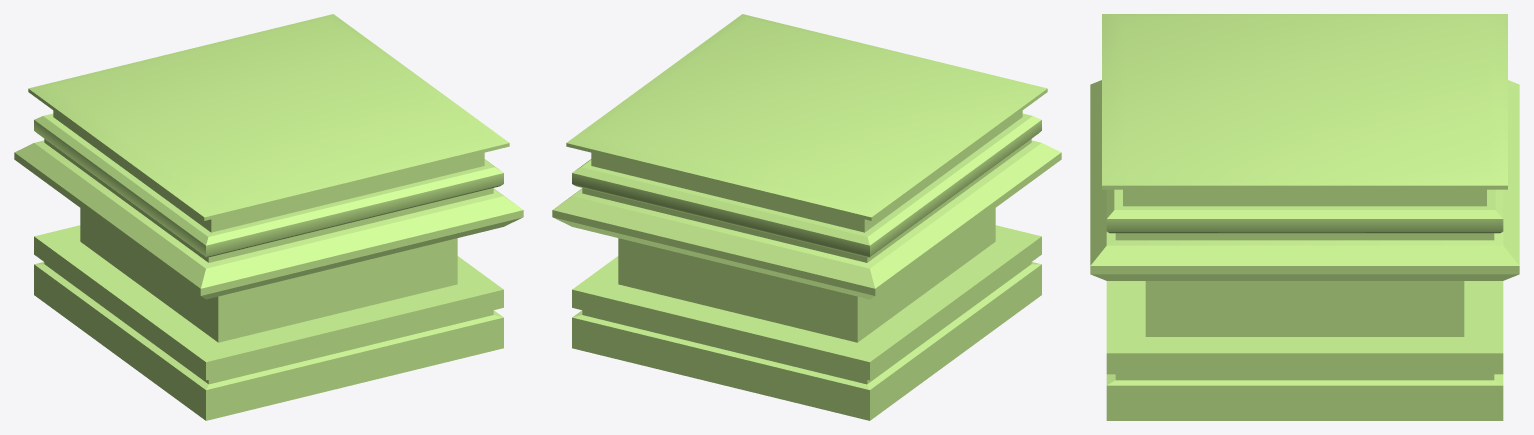
File: SM_Fortress_D_002.FBX
3 renders of one model, left to right at view 1: azimuth 30°, elevation 25°; view 2: azimuth 150°, elevation 25°; view 3: azimuth 270°, elevation 25°, orthographic. The views are drawn at different scales.
Parts seen in each view (by area): view 1: SM_Fortress_D_002; view 2: SM_Fortress_D_002; view 3: SM_Fortress_D_002.
Boxes of the visible parts, <box> form: SM_Fortress_D_002: <box>14,14,523,420</box>; SM_Fortress_D_002: <box>552,14,1061,420</box>; SM_Fortress_D_002: <box>1090,14,1519,420</box>.
Bounding box in the file's own units: 195 × 122 × 195.
